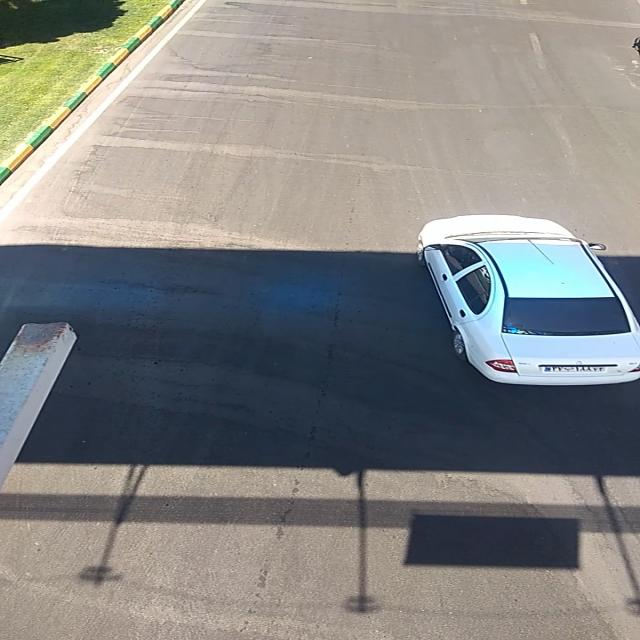car: (411, 215, 638, 386)
